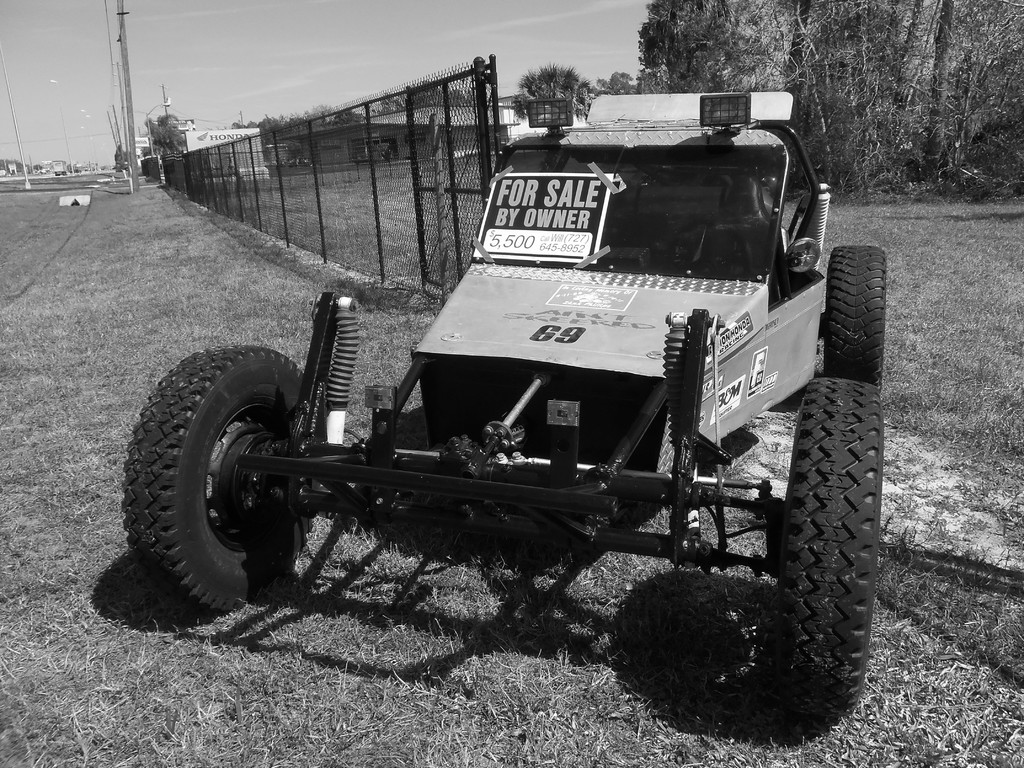cars: (98, 79, 900, 767)
